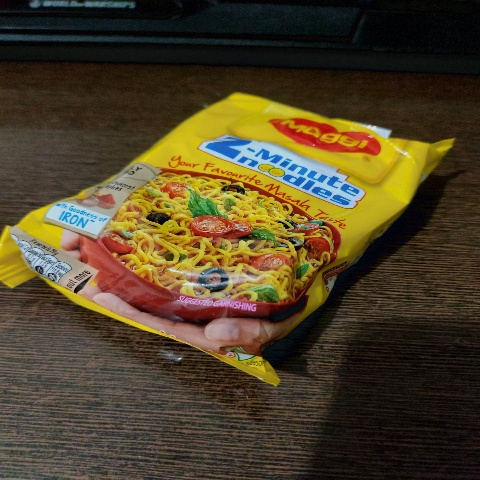maggi: (3, 60, 459, 389)
